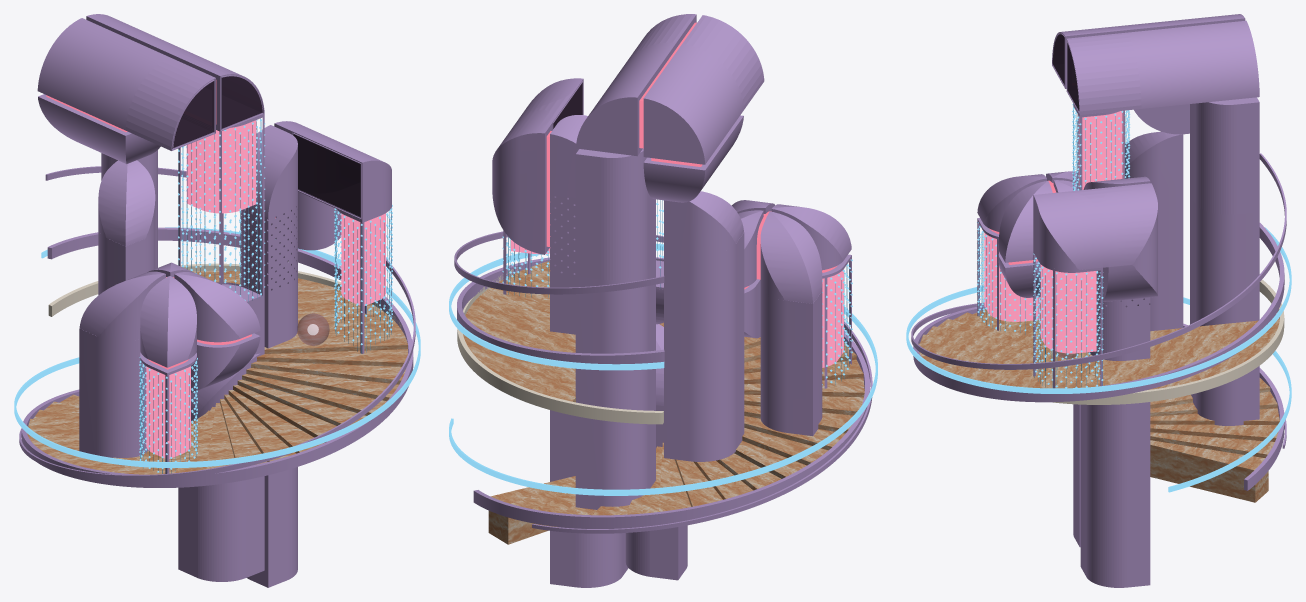
File: firetails.glb
3 views of the same model, side by side, from view 1: azimuth 30°, elevation 25°; view 2: azimuth 150°, elevation 25°; view 3: azimuth 270°, elevation 25° (orthographic). The views are drawn at different scales.
Parts seen in each view (by area): view 1: WE, Shape013, Cylinder013, SpiralStair005, SpiralStair009, SpiralStair008, SpiralStair007, Sphere001; view 2: WE, Cylinder013, Shape013, SpiralStair005, SpiralStair009, SpiralStair008, SpiralStair007; view 3: WE, Cylinder013, Shape013, SpiralStair005, SpiralStair009, SpiralStair008, SpiralStair007.
Boxes of the visible parts, left/top/right/bottom form: WE: left=79, top=76, right=392, bottom=587; Shape013: left=27, top=270, right=407, bottom=474; Cylinder013: left=37, top=14, right=391, bottom=250; SpiralStair005: left=21, top=227, right=413, bottom=487; SpiralStair009: left=14, top=227, right=420, bottom=467; SpiralStair008: left=19, top=166, right=415, bottom=480; SpiralStair007: left=48, top=263, right=401, bottom=328; Sphere001: left=297, top=313, right=329, bottom=345; WE: left=502, top=83, right=852, bottom=587; Cylinder013: left=492, top=14, right=764, bottom=254; Shape013: left=463, top=261, right=864, bottom=544; SpiralStair005: left=457, top=257, right=869, bottom=528; SpiralStair009: left=449, top=243, right=877, bottom=495; SpiralStair008: left=454, top=231, right=872, bottom=533; SpiralStair007: left=457, top=267, right=663, bottom=424; WE: left=977, top=34, right=1259, bottom=587; Cylinder013: left=1033, top=14, right=1259, bottom=301; Shape013: left=918, top=304, right=1279, bottom=502; SpiralStair005: left=913, top=223, right=1284, bottom=490; SpiralStair009: left=906, top=227, right=1291, bottom=492; SpiralStair008: left=911, top=153, right=1286, bottom=448; SpiralStair007: left=1053, top=279, right=1284, bottom=404.
Size of the model in its own units: 12.82 by 18.46 by 12.82.
Materials: 10 (1 with a texture image).
